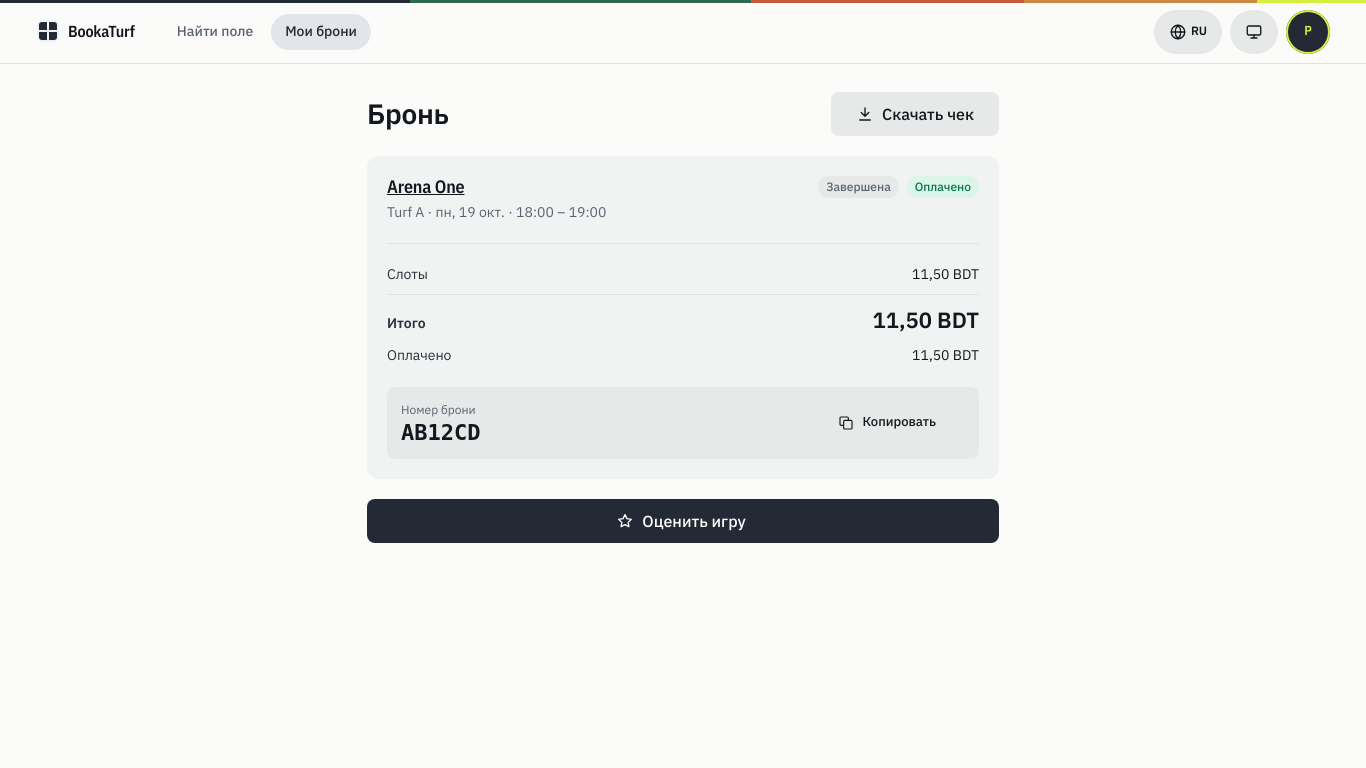
Scenario: player review › already_reviewed is shown translated in ru
The image size is (1366, 768).
Click the button "Оценить игру". click: (683, 521)
box: [367,499,999,543]
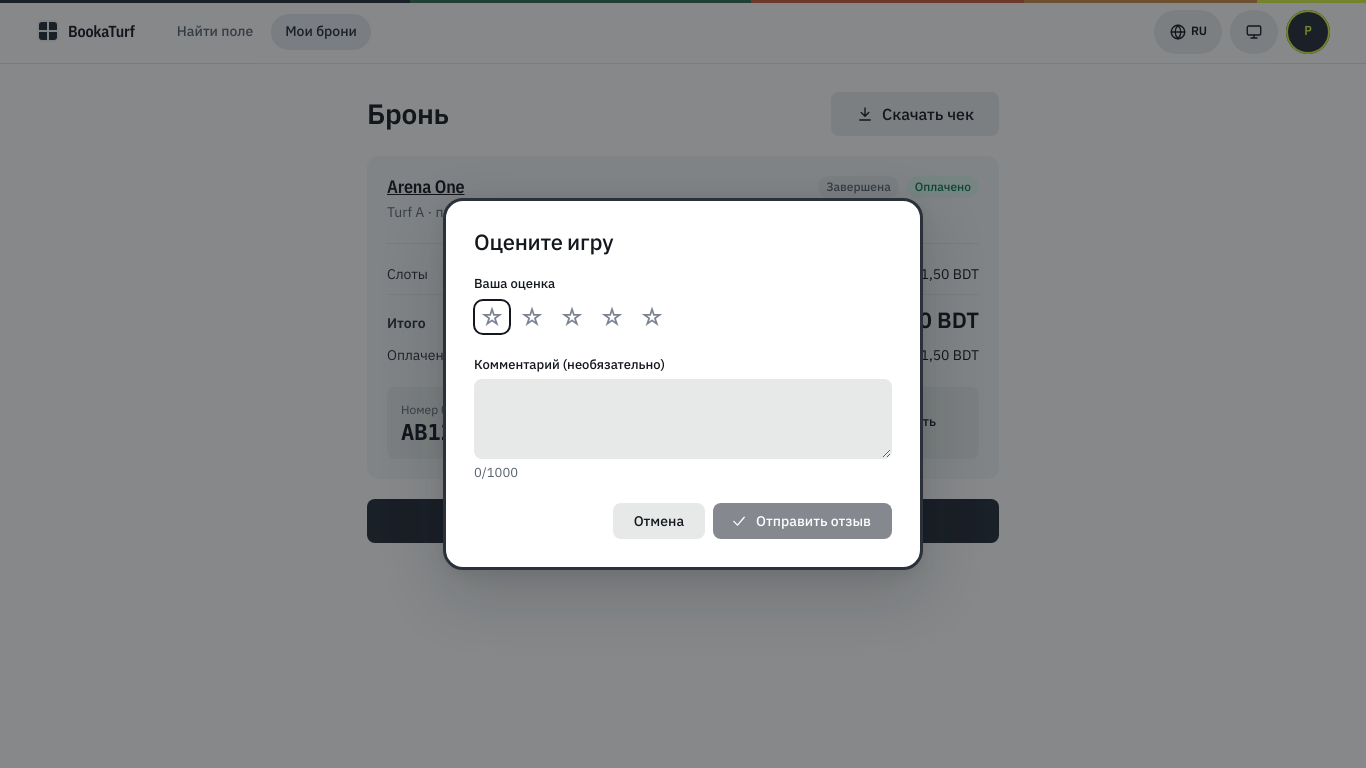
Click the radio button named "4 звезды". click: (612, 317)
box: [594,299,630,335]
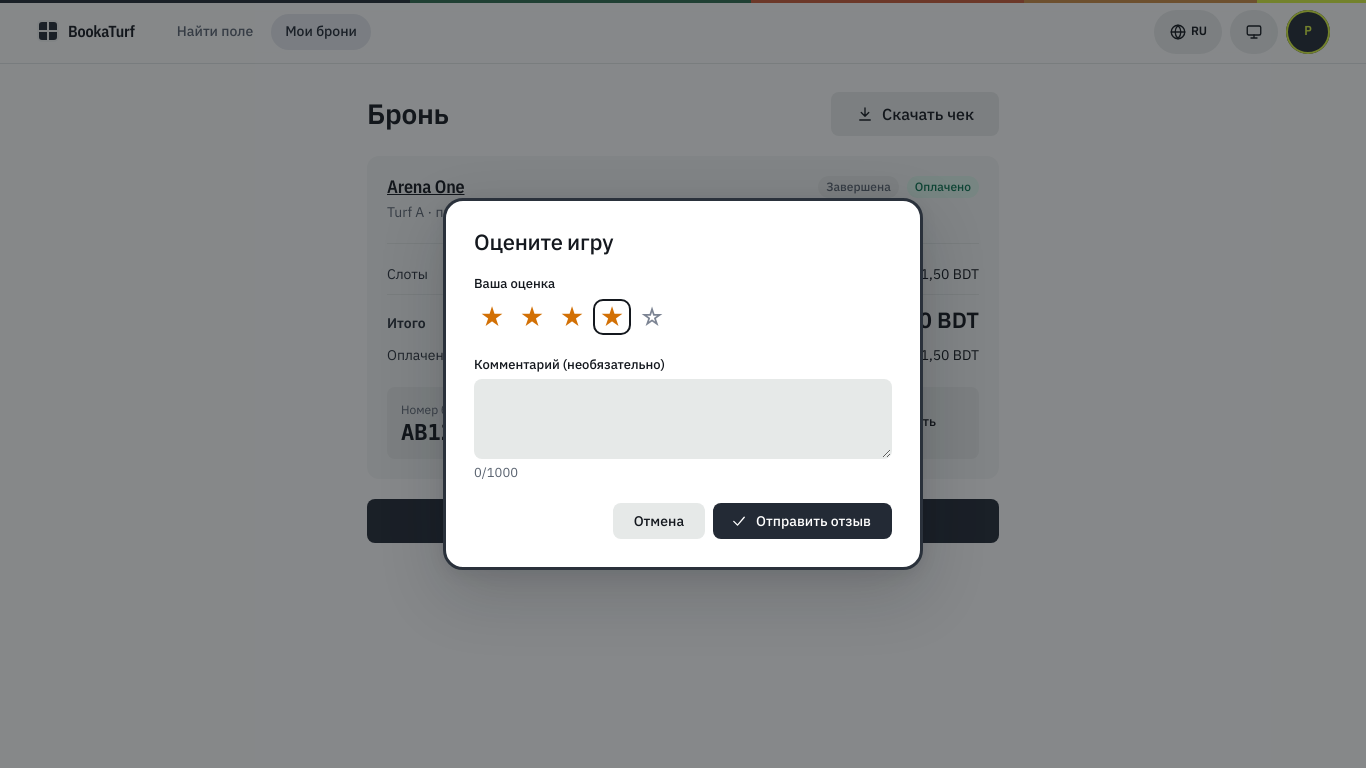
Click the button "Отправить отзыв". click: (803, 521)
box: [713,503,892,539]
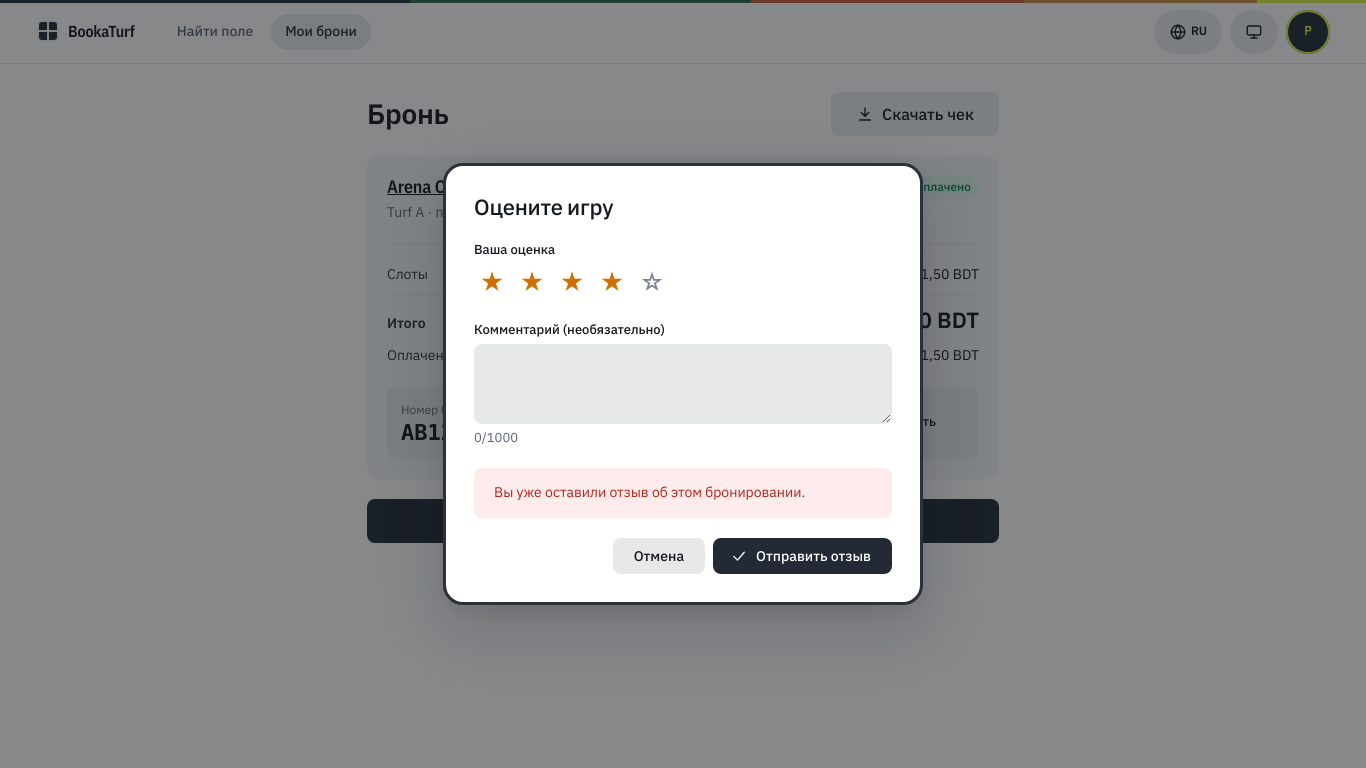
Result: the text "Вы уже оставили отзыв об этом бронировании." is shown at [474,468,892,518]
